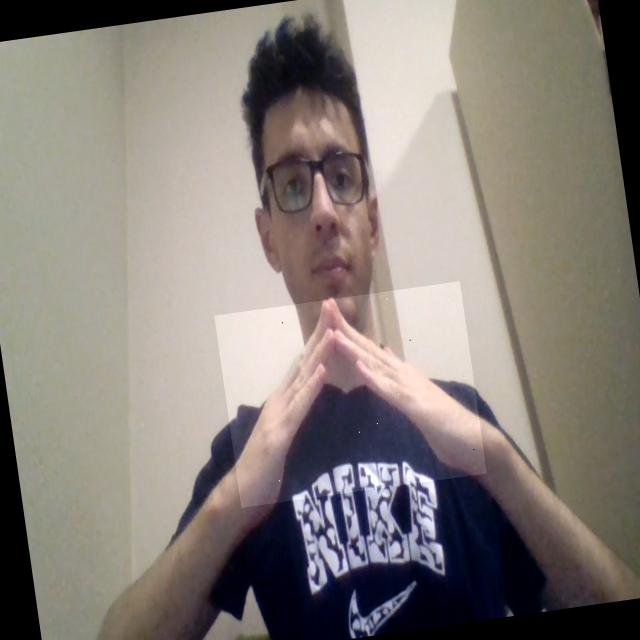house: (214, 281, 487, 508)
